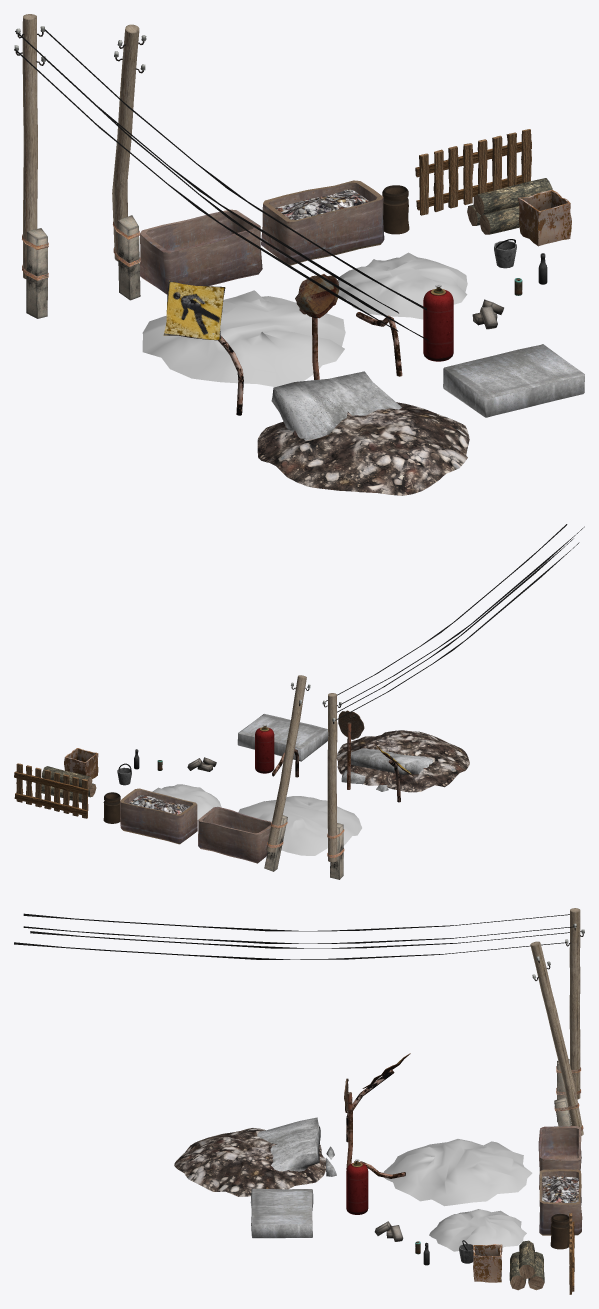
The model's file is Post_Apokalypsis.fbx.
The picture shows the model from 3 angles, top to bottom: view 1: azimuth 30°, elevation 25°; view 2: azimuth 150°, elevation 25°; view 3: azimuth 270°, elevation 25°; orthographic projection. The views are drawn at different scales.
Visible parts, largest first — view 1: плита в развалине, мусор большая, большая мусорка с мусором, большая мусорка, плита, столб, забор, мусор малая, столб збитый, провода, знак 01, ящик (+5 smaller); view 2: плита в развалине, мусор большая, большая мусорка с мусором, большая мусорка, забор, столб збитый, столб, плита, провода, мусор малая, баллон газ, ящик (+2 smaller); view 3: плита в развалине, мусор большая, провода, плита, мусор малая, столб збитый, большая мусорка с мусором, столб, большая мусорка, баллон газ, ящик, мусорка (+2 smaller).
Boxes of the visible parts, x1,y1,x2,y2 form: плита в развалине: (257,371,469,495); мусор большая: (142,290,345,386); большая мусорка с мусором: (261,180,384,265); большая мусорка: (139,209,262,294); плита: (443,344,584,417); столб: (14,14,48,318); забор: (415,129,531,215); мусор малая: (337,252,467,319); столб збитый: (112,24,146,300); провода: (14,29,428,341); знак 01: (163,280,243,415); ящик: (518,190,571,246); плита в развалине: (336,730,469,792); мусор большая: (238,796,361,855); большая мусорка с мусором: (120,788,197,844); большая мусорка: (198,806,271,863); забор: (14,763,88,818); столб збитый: (264,675,310,871); столб: (323,693,344,879); плита: (237,714,328,761); провода: (322,524,584,720); мусор малая: (152,784,221,821); баллон газ: (255,724,274,773); ящик: (64,748,98,778); плита в развалине: (174,1117,336,1196); мусор большая: (383,1139,532,1206); провода: (14,913,581,959); плита: (250,1188,313,1238); мусор малая: (429,1209,526,1251); столб збитый: (530,941,583,1135); большая мусорка с мусором: (539,1169,582,1235); столб: (556,908,584,1122); большая мусорка: (538,1126,581,1189); баллон газ: (346,1159,368,1214); ящик: (472,1244,502,1282); мусорка: (550,1214,569,1249).
Bounding box in the file's own units: 2112 × 1193 × 2813.
